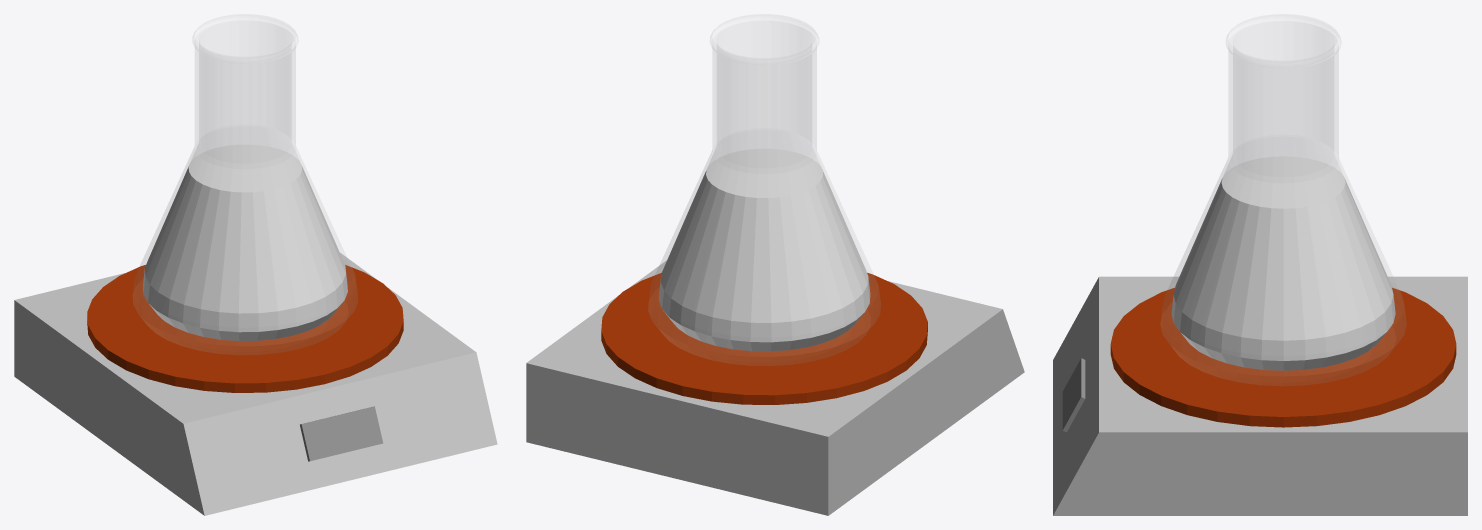
The model's file is BeakerHeaterThing.fbx.
The picture shows the model from 3 angles, left to right: view 1: azimuth 30°, elevation 25°; view 2: azimuth 150°, elevation 25°; view 3: azimuth 270°, elevation 25°; orthographic projection. The views are drawn at different scales.
Parts seen in each view (by area): view 1: Base, WonkyFlask, Potion, Heater, Display; view 2: WonkyFlask, Base, Potion, Heater; view 3: WonkyFlask, Base, Potion, Heater, Display.
Boxes of the visible parts, x1=… form: Base: x1=14, y1=252, x2=497, y2=515; WonkyFlask: x1=133, y1=14, x2=357, y2=354; Potion: x1=143, y1=144, x2=347, y2=340; Heater: x1=87, y1=265, x2=403, y2=392; Display: x1=300, y1=406, x2=383, y2=461; WonkyFlask: x1=648, y1=14, x2=880, y2=365; Base: x1=526, y1=260, x2=1024, y2=515; Potion: x1=658, y1=148, x2=870, y2=351; Heater: x1=601, y1=272, x2=927, y2=404; WonkyFlask: x1=1161, y1=14, x2=1406, y2=385; Base: x1=1053, y1=276, x2=1467, y2=515; Potion: x1=1171, y1=156, x2=1395, y2=370; Heater: x1=1110, y1=287, x2=1456, y2=427; Display: x1=1062, y1=358, x2=1085, y2=432.
Size of the model in its own units: 160 by 192 by 180.
